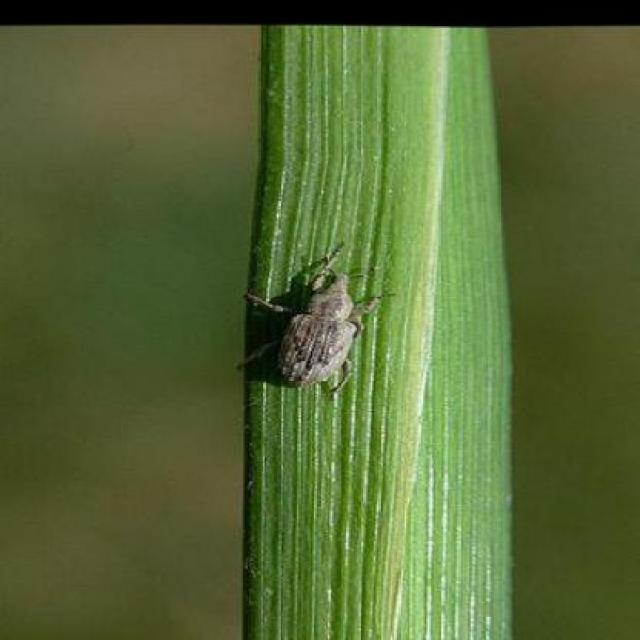rice-bug: (248, 252, 386, 394)
